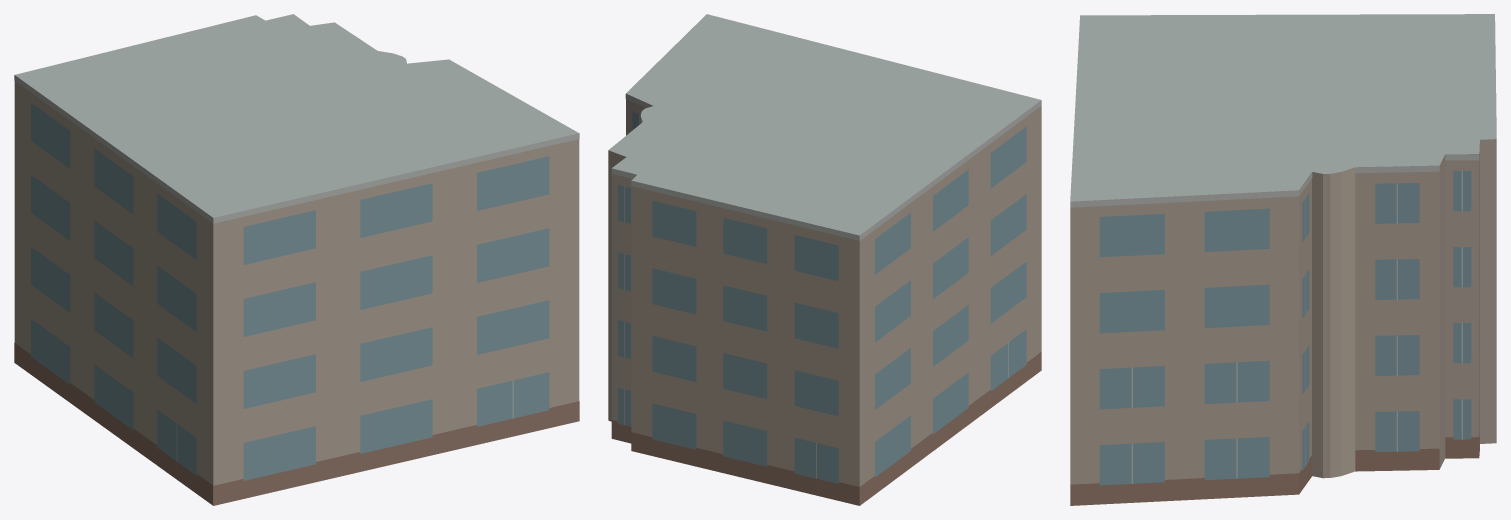
File: survey-upis-32640974.glb
3 renders of one model, left to right at view 1: azimuth 30°, elevation 25°; view 2: azimuth 150°, elevation 25°; view 3: azimuth 270°, elevation 25°, orthographic. The views are drawn at different scales.
Parts seen in each view (by area): view 1: survey-upis-32640974.tmp; view 2: survey-upis-32640974.tmp; view 3: survey-upis-32640974.tmp.
Boxes of the visible parts, x1,y1,x2,y2 form: survey-upis-32640974.tmp: (14, 14, 579, 505); survey-upis-32640974.tmp: (608, 14, 1041, 505); survey-upis-32640974.tmp: (1070, 14, 1496, 505).
Bounding box in the file's own units: 16.15 × 12.2 × 15.52.
